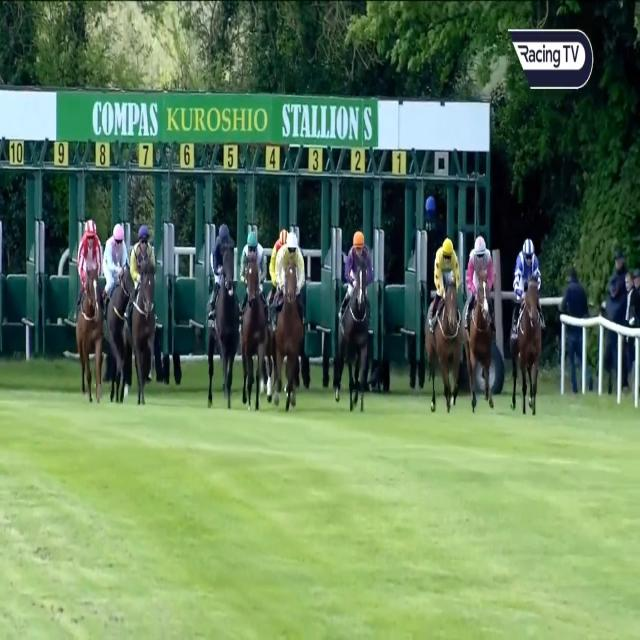horses-racing: (270, 225, 311, 419), (339, 228, 378, 417), (204, 212, 240, 396), (238, 219, 272, 411), (509, 238, 544, 415), (427, 231, 462, 406), (465, 235, 498, 416), (104, 215, 134, 413), (77, 204, 105, 396), (129, 222, 159, 396), (271, 223, 293, 300)
